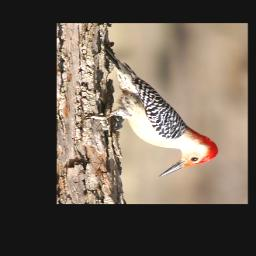Woodpecker: (82, 47, 222, 177)
